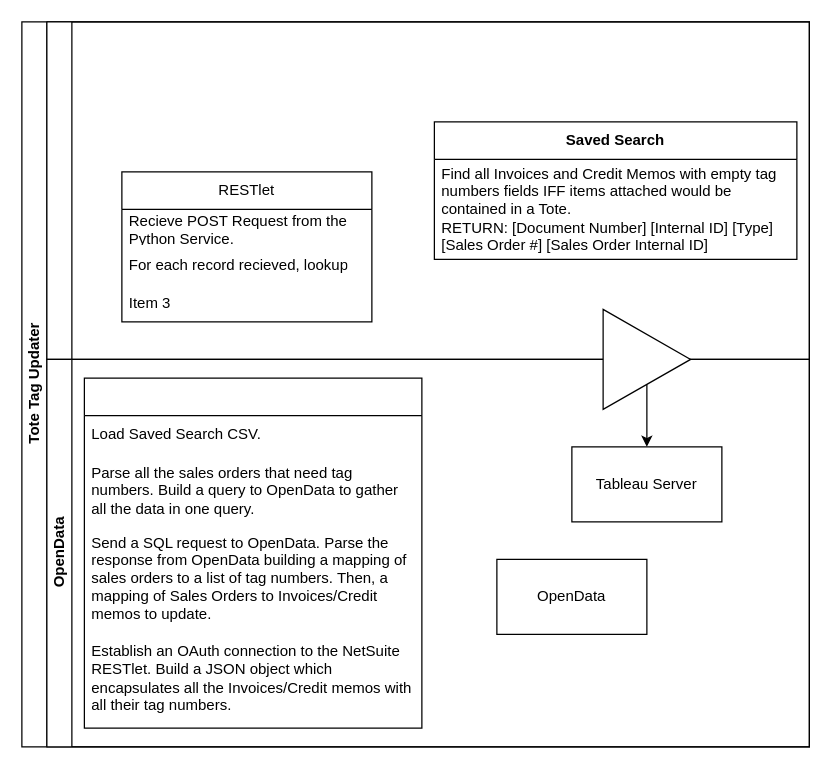
The diagram is 831 pixels wide and 769 high, and some of its shapes have lost their labels. The shapes that lost their labels are listed below. From the top down, each one's box as (x1, y1, x2, y2) in pixels, then its label:
(46, 21, 809, 359): Netsuite
(602, 308, 691, 409): Tactical Connect
(83, 377, 422, 728): Python Service
